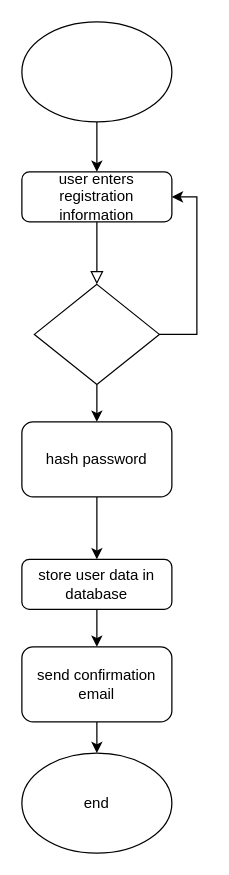
Some shapes in this 229 by 875 pixel diagram are drawn without their labels. Here are the shapes that lost their labels. From the top down, the box of each, then its label:
(21, 21, 172, 122): start
(33, 283, 159, 384): is input valid
